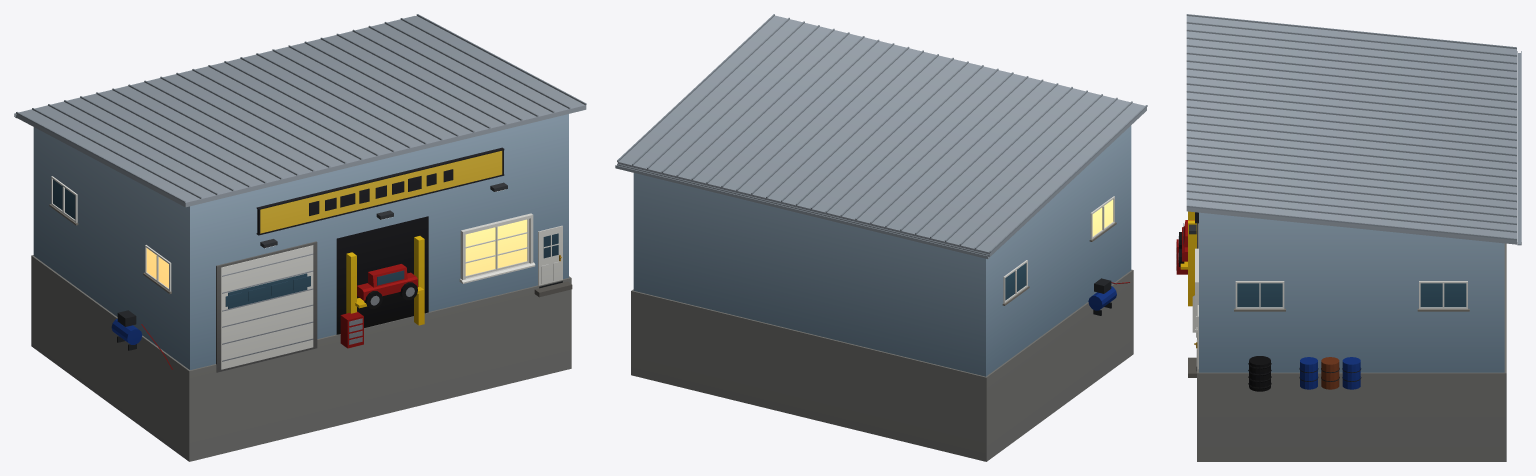
Rendered from Garage.fbx.
3 views of the same model, side by side, from view 1: azimuth 30°, elevation 25°; view 2: azimuth 150°, elevation 25°; view 3: azimuth 270°, elevation 25° (orthographic). The views are drawn at different scales.
Visible parts, largest first — view 1: Garage_LOD0; view 2: Garage_LOD0; view 3: Garage_LOD0.
Boxes of the visible parts, left/top/right/bottom form: Garage_LOD0: left=14, top=14, right=586, bottom=461; Garage_LOD0: left=615, top=14, right=1147, bottom=461; Garage_LOD0: left=1176, top=14, right=1521, bottom=461.
Size of what is drawn, in the model's own units: 15.96 by 9.41 by 11.3.
1 material, 1 textured.
